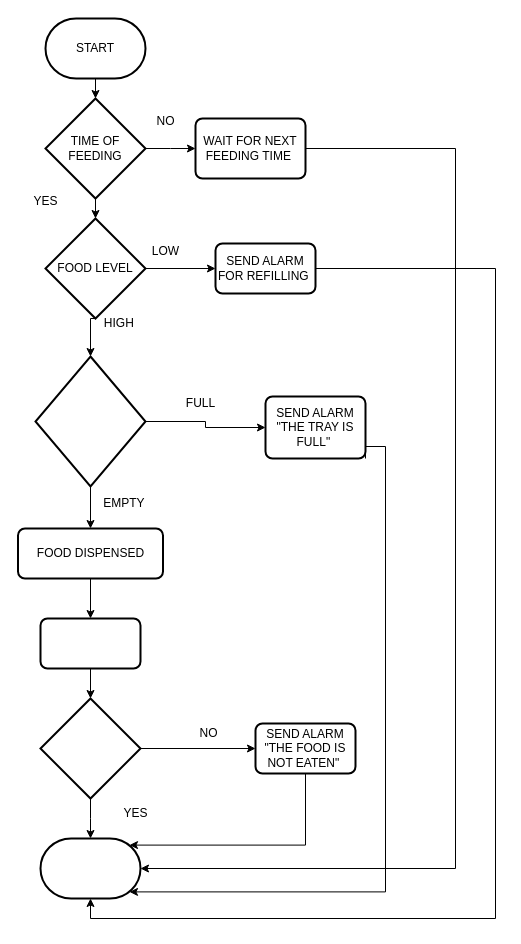
Image size: 521x944. Some labels were removed from this diagram. Each missing label, with the centre of its shape:
FOOD EAT: point (90, 748)
FOOD TRAY BEFORE FEEDING: point (90, 421)
STOP: point (90, 868)
WAIT FOR 10MIN: point (90, 643)
